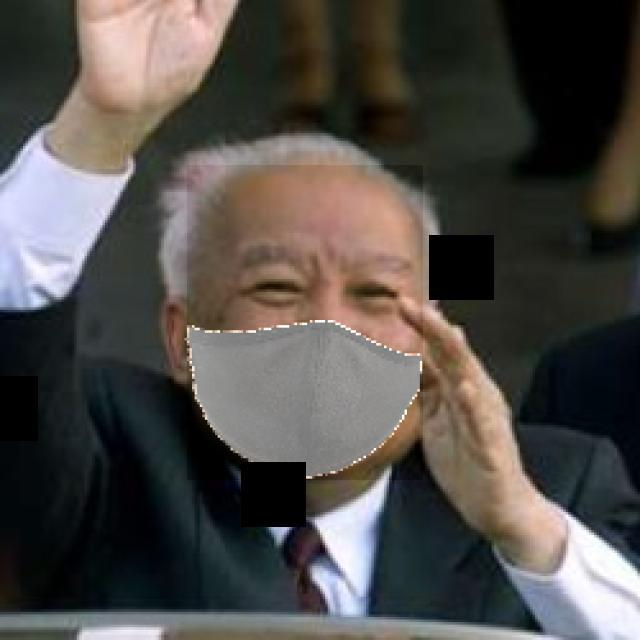cloth: (187, 165, 423, 480)
